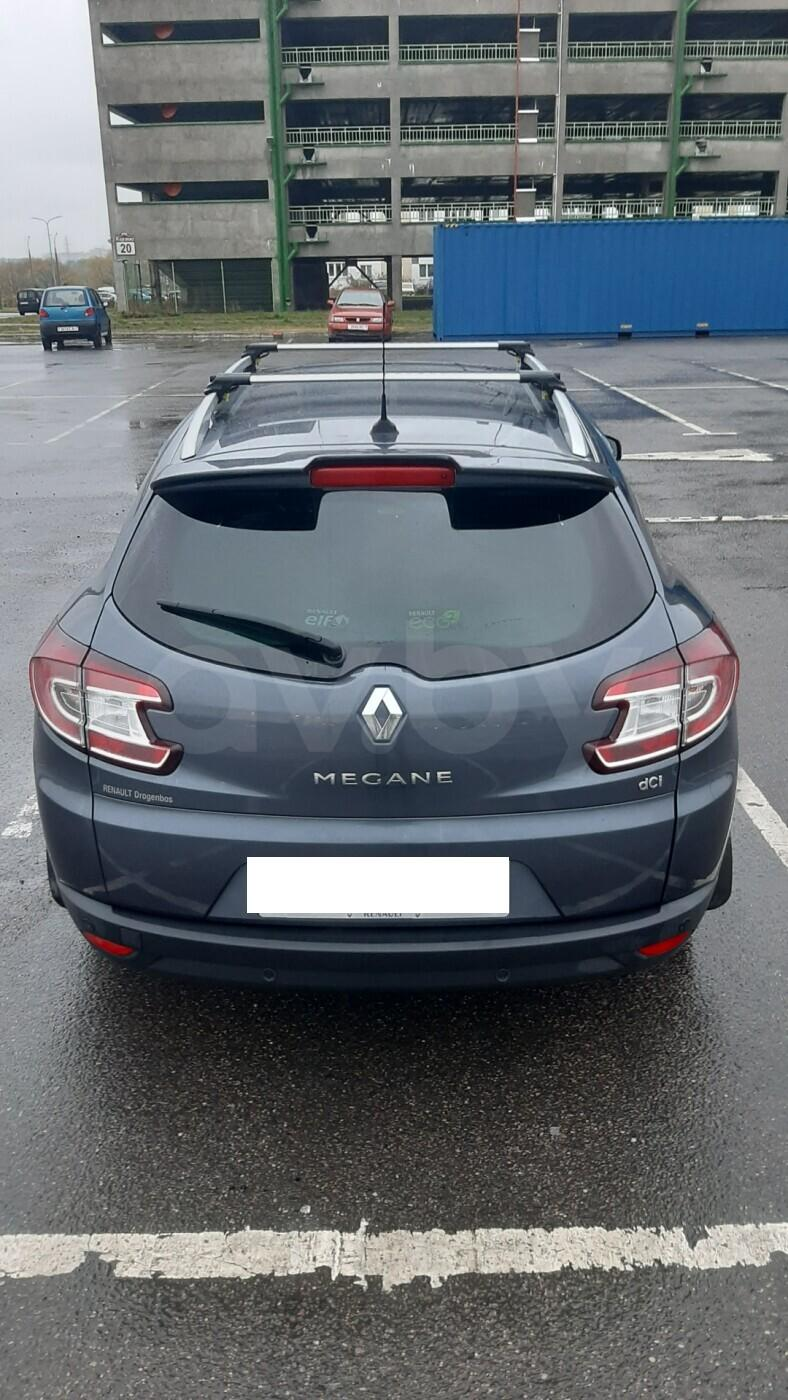Megane_2014-2016: (34, 336, 738, 1030)
